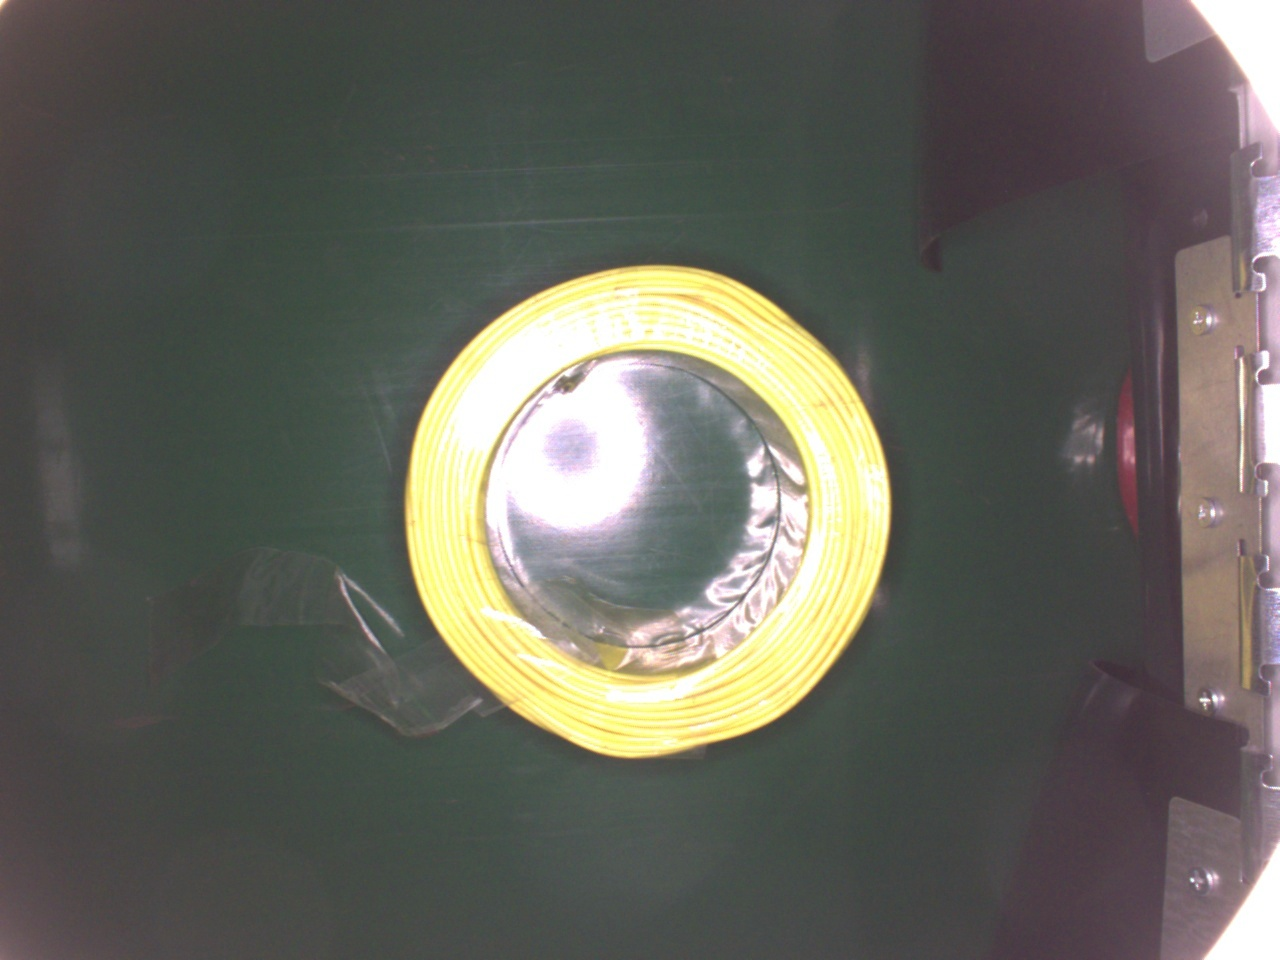yellow: (398, 265, 891, 760)
